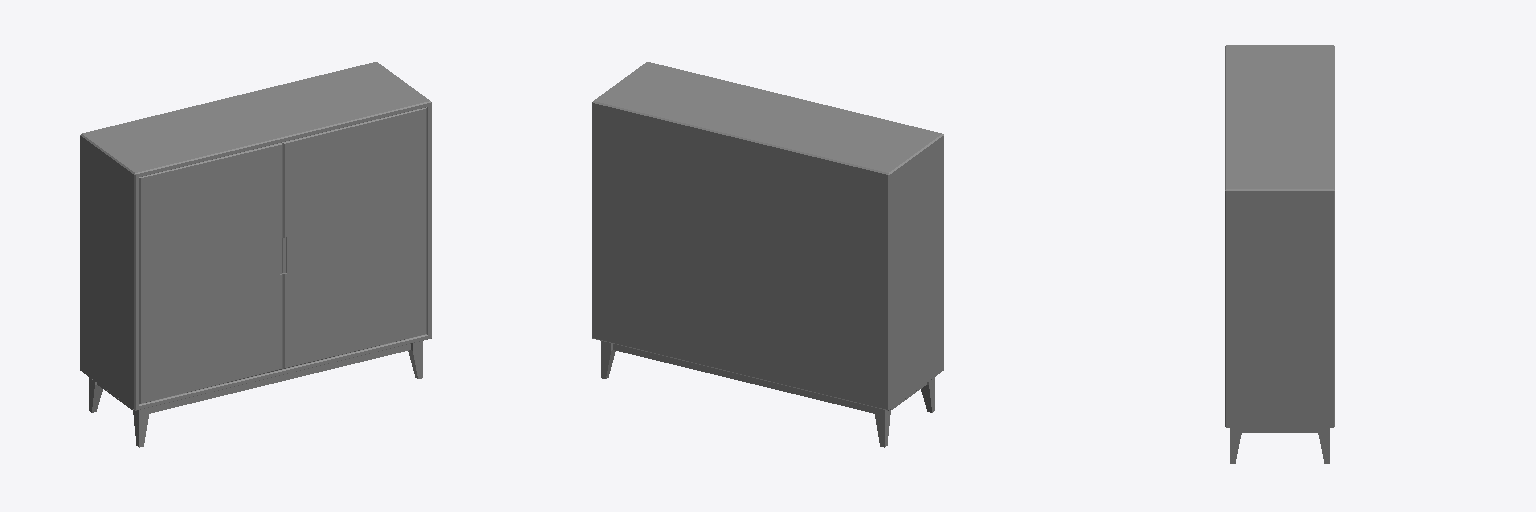
File: Cabinet.obj
3 renders of one model, left to right at view 1: azimuth 30°, elevation 25°; view 2: azimuth 150°, elevation 25°; view 3: azimuth 270°, elevation 25°, orthographic.
Parts seen in each view (by area): view 1: cabinet, door2, door1; view 2: cabinet; view 3: cabinet.
Boxes of the visible parts, box(x1,y1,x2,y2) form: cabinet: box(80, 62, 431, 447); door2: box(282, 107, 426, 368); door1: box(139, 142, 282, 403); cabinet: box(592, 62, 943, 447); cabinet: box(1225, 45, 1334, 463).
Size of the model in its own units: 46.46 by 41.34 by 14.96.